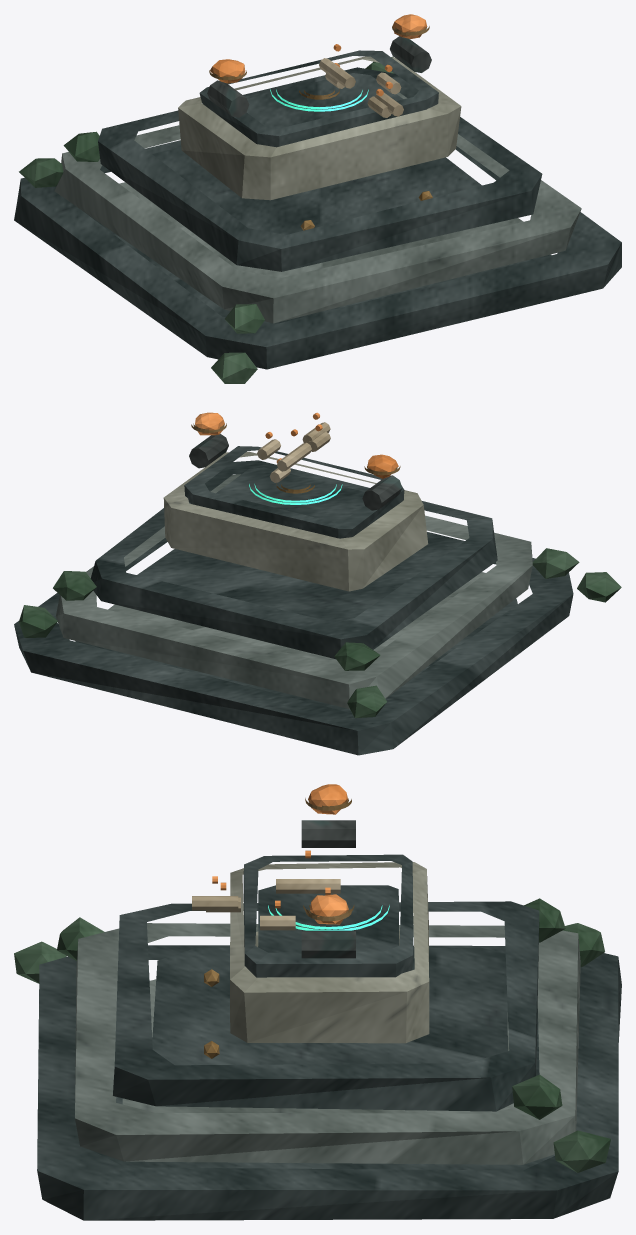
Rendered from 0453_altar_03.glb.
The picture shows the model from 3 angles, top to bottom: view 1: azimuth 30°, elevation 25°; view 2: azimuth 150°, elevation 25°; view 3: azimuth 270°, elevation 25°; orthographic projection. The views are drawn at different scales.
Visible parts, largest first — view 1: stone_dark, stone, stone_light, moss, iron, bone, amber, brass, glow; view 2: stone_dark, stone, stone_light, moss, iron, bone, amber, glow, brass; view 3: stone_dark, stone, stone_light, moss, iron, bone, amber, brass.
Part boxes in pixels (box(x1,y1,x2,y2)): stone_dark: box(14, 50, 621, 369); stone: box(54, 92, 581, 323); stone_light: box(178, 56, 461, 200); moss: box(19, 56, 394, 383); iron: box(207, 36, 431, 117); bone: box(319, 58, 403, 117); amber: box(210, 14, 427, 96); brass: box(209, 26, 432, 230); glow: box(270, 89, 368, 111); stone_dark: box(14, 446, 573, 755); stone: box(56, 474, 532, 709); stone_light: box(163, 451, 428, 591); moss: box(18, 548, 621, 718); iron: box(189, 433, 402, 510); bone: box(257, 422, 330, 482); amber: box(195, 412, 398, 478); glow: box(249, 484, 342, 504); brass: box(191, 423, 400, 493); stone_dark: box(37, 854, 621, 1220); stone: box(75, 923, 580, 1164); stone_light: box(230, 862, 429, 1043); moss: box(14, 898, 610, 1172); iron: box(301, 820, 355, 958); bone: box(192, 879, 340, 930); amber: box(212, 784, 348, 924); brass: box(204, 798, 354, 1058).
Bounding box in the file's own units: 2.7 × 1.27 × 2.7.
Materials: 9 (9 with a texture image).
